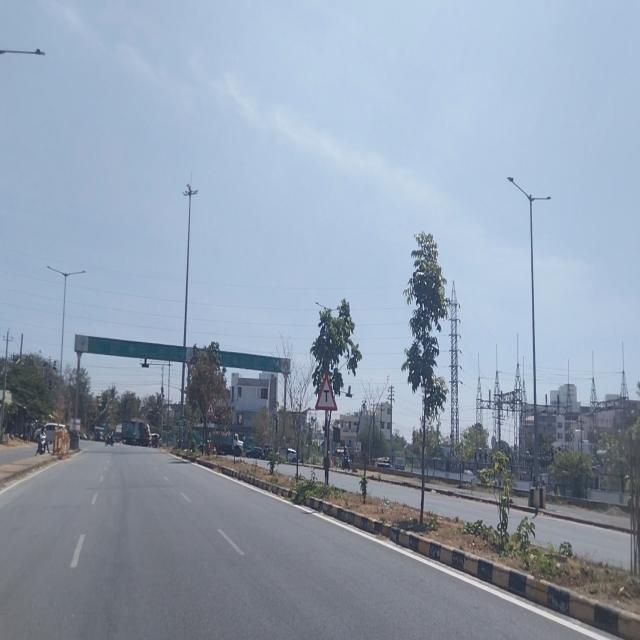bien_cam: (314, 372, 338, 412), (206, 402, 215, 418)
